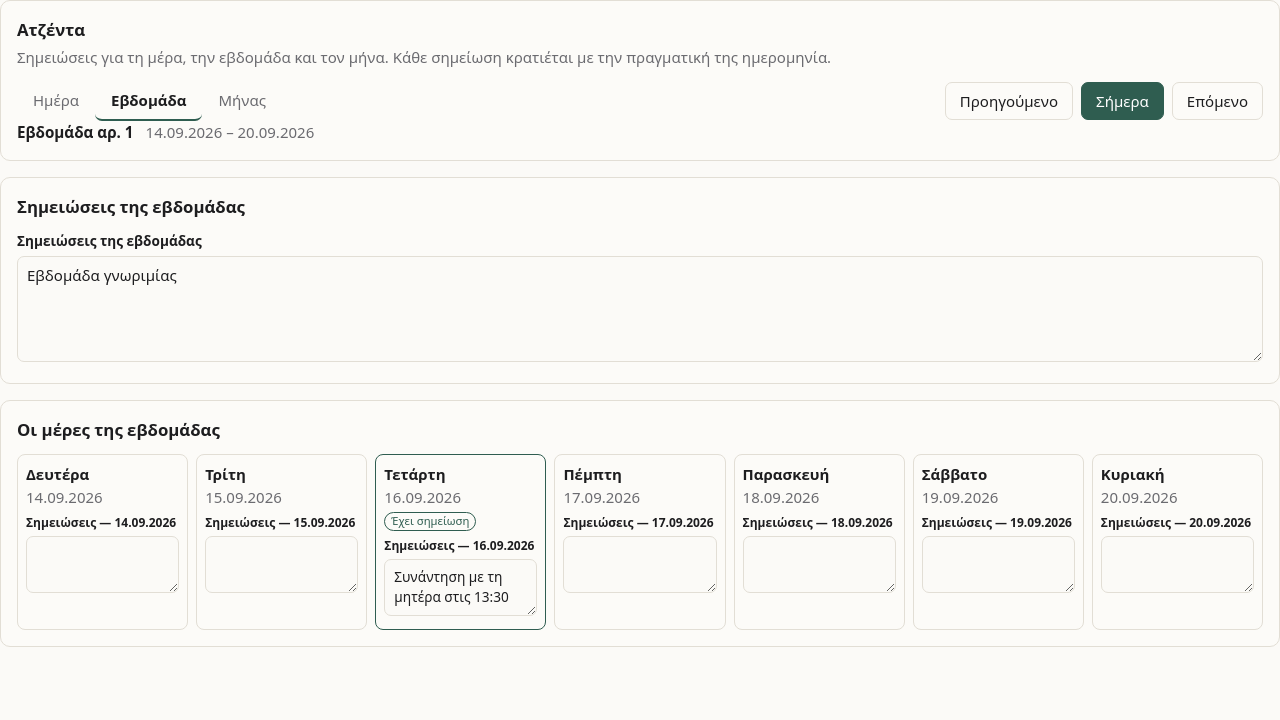
Test: the agenda › navigation › jumps back to today from wherever the teacher wandered to
Click the button "Επόμενο": (1217, 101) [1172,82,1263,120]
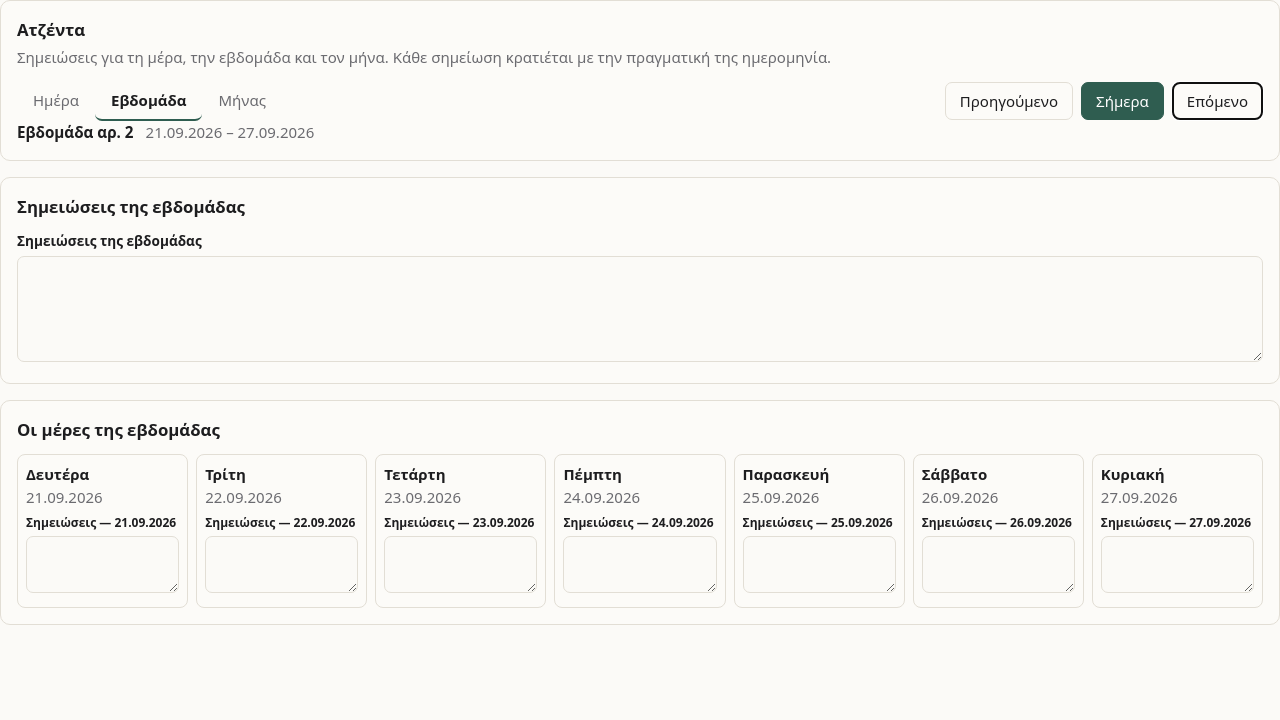
Click the button "Επόμενο": (1217, 101) [1172,82,1263,120]
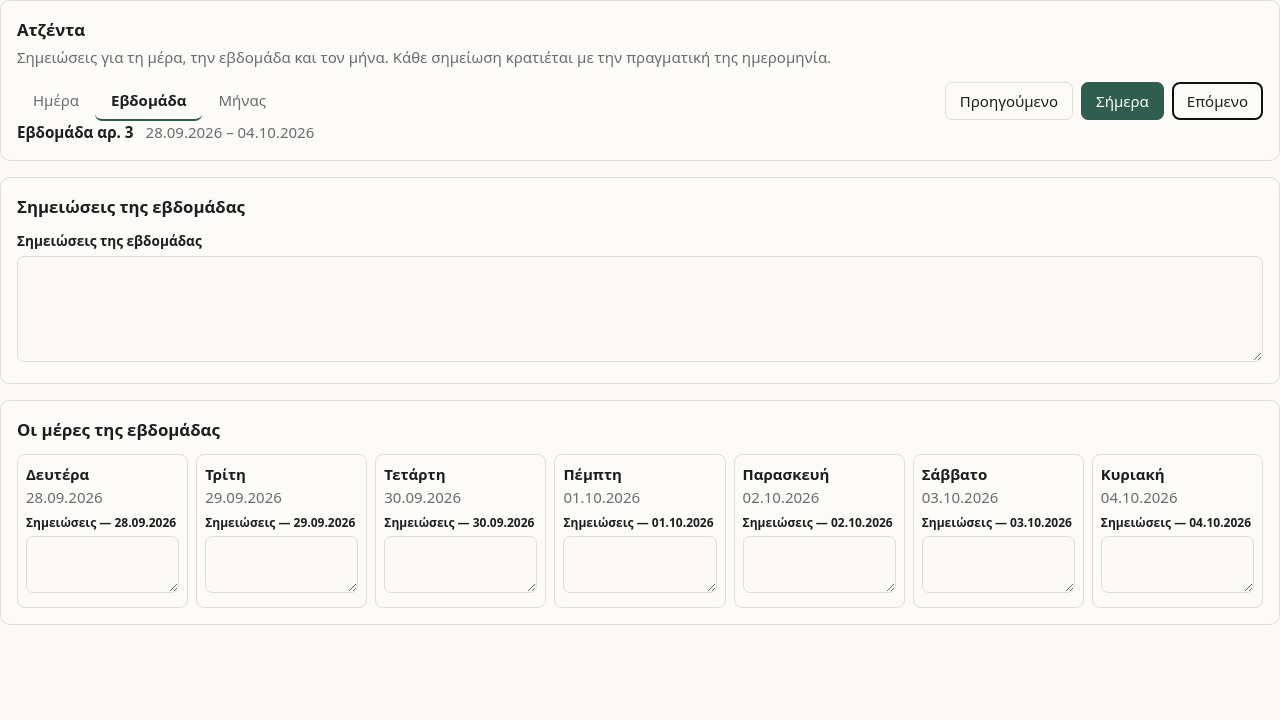
Click the button "Επόμενο": (1217, 101) [1172,82,1263,120]
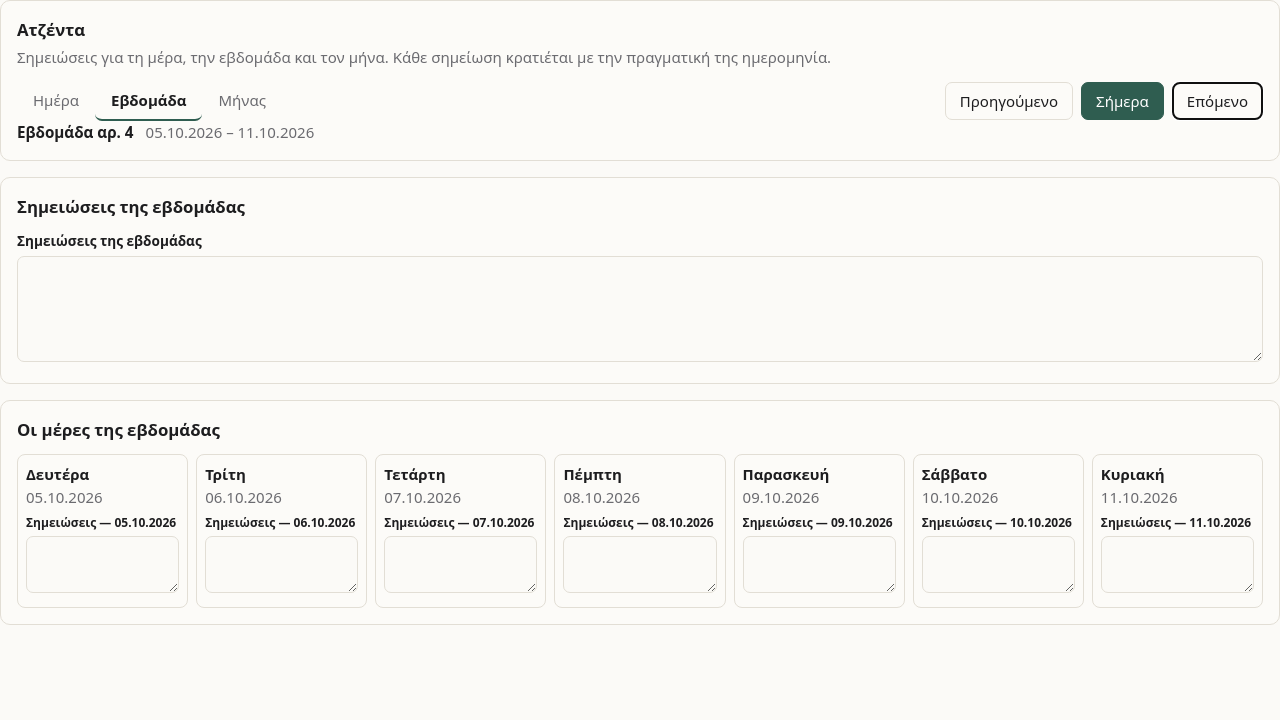
Click the button "Επόμενο": (1217, 101) [1172,82,1263,120]
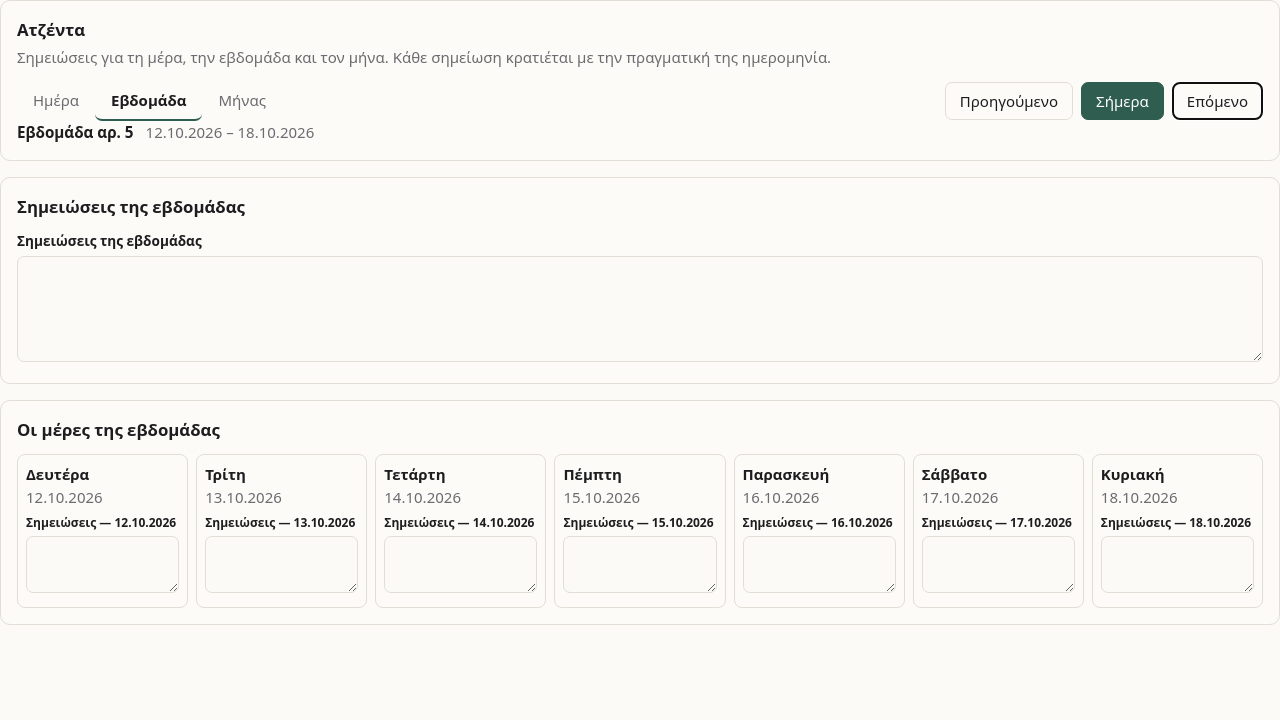
Click the button "Επόμενο": (1217, 101) [1172,82,1263,120]
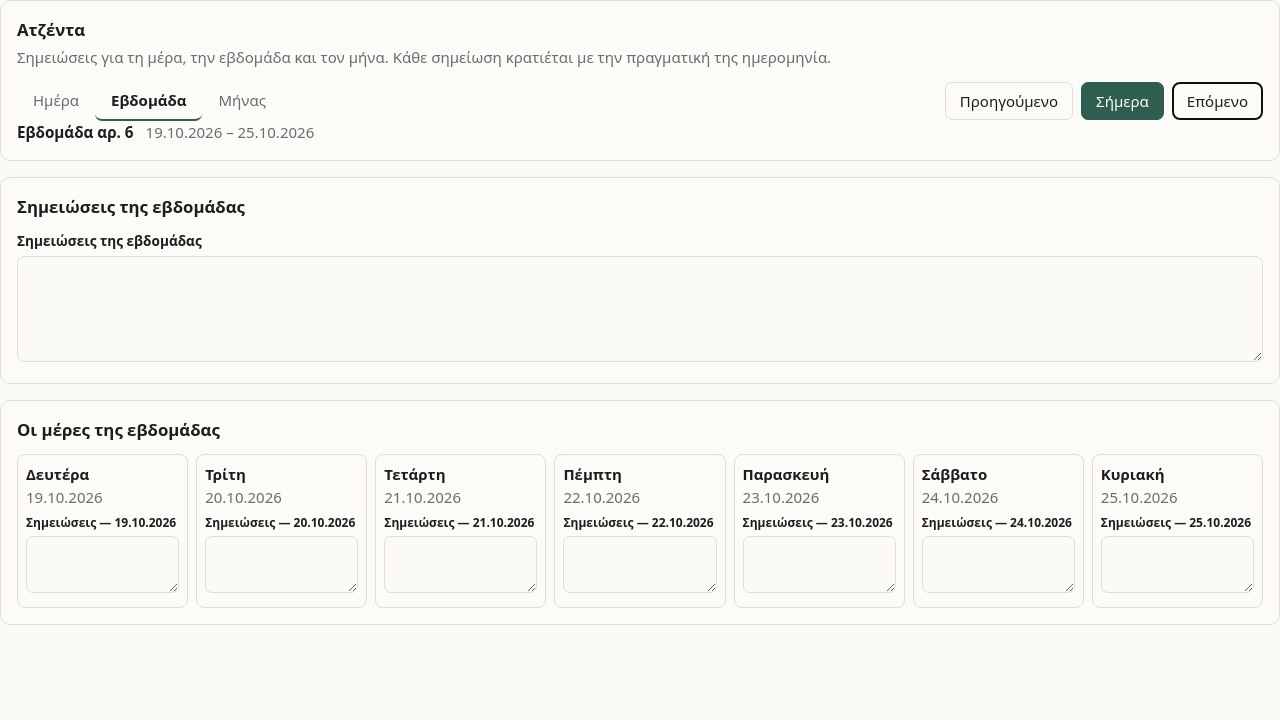
Result: the heading "Εβδομάδα αρ. 6" is shown at [17,121,134,144]
Click the button "Σήμερα": (1122, 101) [1081,82,1164,120]
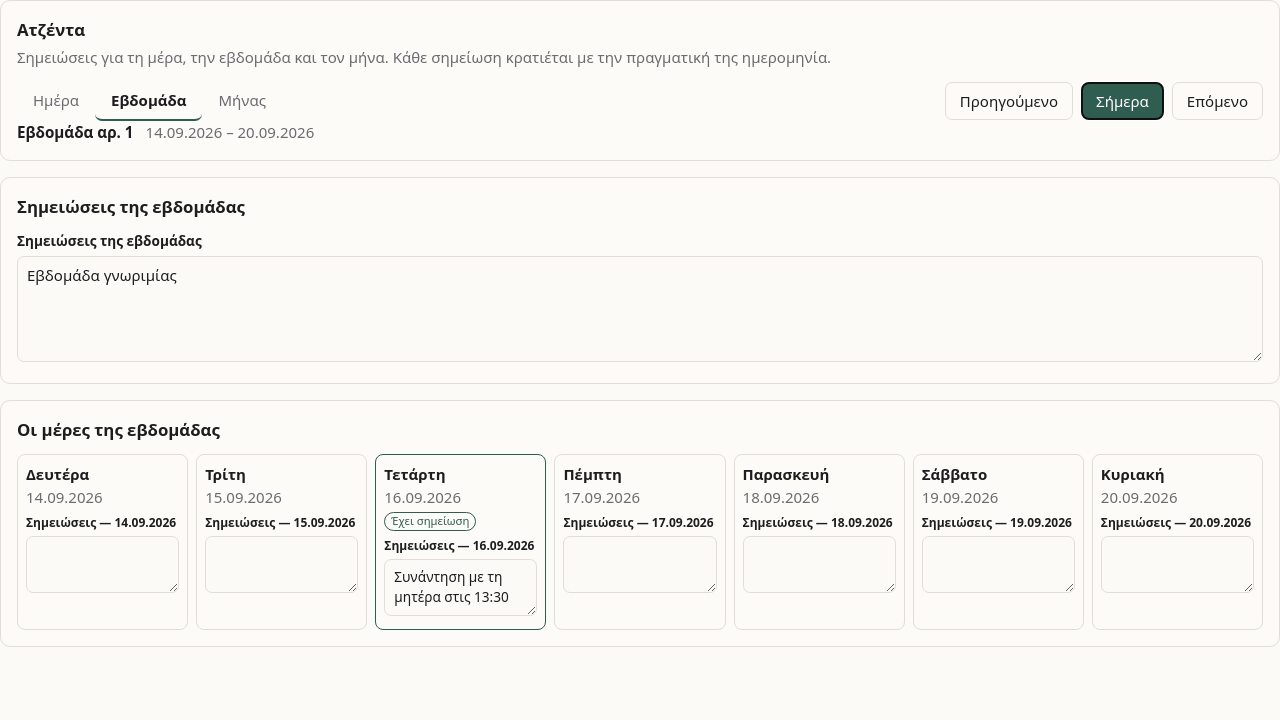
Result: the heading "Εβδομάδα αρ. 1" is shown at [17,121,134,144]
Result: the text "14.09.2026 – 20.09.2026" is shown at [146,121,314,144]
